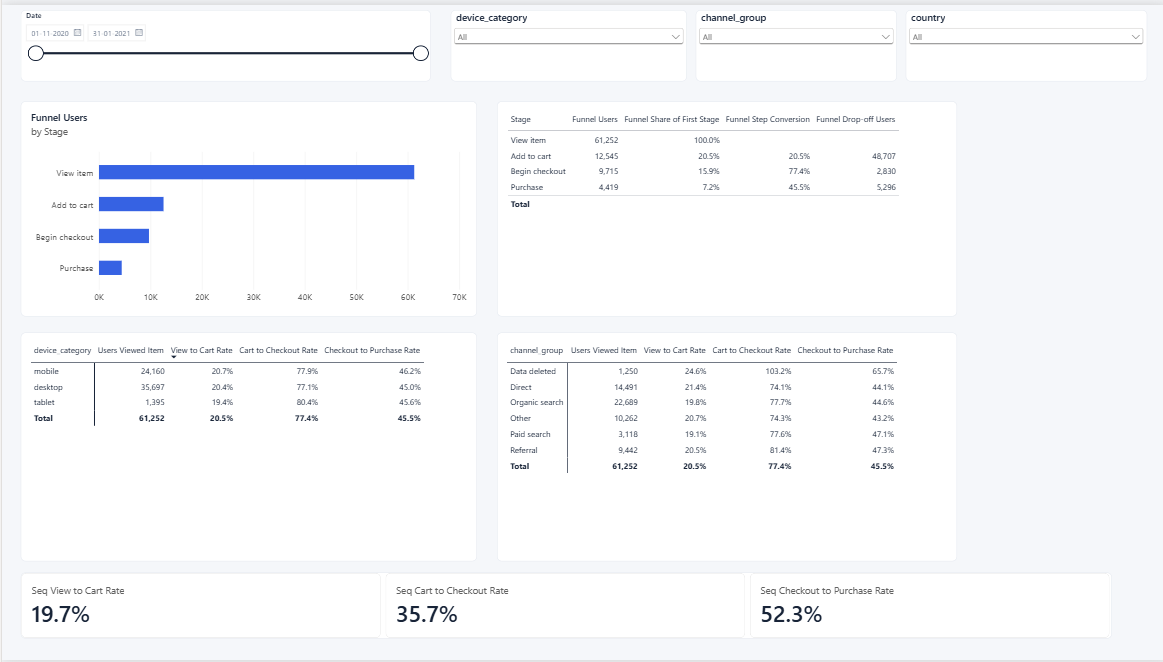

What the dashboard file says about the page in this screenshot:
{"tool":"powerbi","page":{"name":"Conversion funnel","canvas":[1920,1080],"ordinal":1},"visuals":[{"type":"slicer","fields":{"Values":["dim_date.Date"]},"box":[8,4,310,62],"z":0},{"type":"slicer","fields":{"Values":["dim_user.device_category"]},"box":[324,4,310,62],"z":1000},{"type":"slicer","fields":{"Values":["dim_user.channel_group"]},"box":[640,4,310,62],"z":2000},{"type":"slicer","fields":{"Values":["dim_user.country"]},"box":[956,4,310,62],"z":3000},{"type":"barChart","fields":{"Category":["Funnel Stage.Stage"],"Y":["_Measures.Funnel Users"]},"box":[8,74,628,300],"z":4000},{"type":"tableEx","fields":{"Values":["Funnel Stage.Stage","_Measures.Funnel Users","_Measures.Funnel Share of First Stage","_Measures.Funnel Step Conversion","_Measures.Funnel Drop-off Users"]},"box":[644,74,628,300],"z":5000},{"type":"pivotTable","fields":{"Rows":["dim_user.device_category"],"Values":["_Measures.Users Viewed Item","_Measures.View to Cart Rate","_Measures.Cart to Checkout Rate","_Measures.Checkout to Purchase Rate"]},"box":[8,384,628,200],"z":6000},{"type":"pivotTable","fields":{"Rows":["dim_user.channel_group"],"Values":["_Measures.Users Viewed Item","_Measures.View to Cart Rate","_Measures.Cart to Checkout Rate","_Measures.Checkout to Purchase Rate"]},"box":[644,384,628,200],"z":7000},{"type":"cardVisual","fields":{"Data":["_Measures.Seq View to Cart Rate","_Measures.Seq Cart to Checkout Rate","_Measures.Seq Checkout to Purchase Rate"]},"box":[8,596,1264,110],"z":8000}]}

Visuals, with their boxes in screenshot pixels (x1, y1, x2, y2), scaled from the page's 1920x1080 canvas onto the 1163x662 screenshot:
slicer - dim_date.Date: 5, 2, 193, 40
slicer - dim_user.device_category: 196, 2, 384, 40
slicer - dim_user.channel_group: 388, 2, 575, 40
slicer - dim_user.country: 579, 2, 767, 40
barChart - Funnel Stage.Stage x _Measures.Funnel Users: 5, 45, 385, 229
tableEx - Funnel Stage.Stage x _Measures.Funnel Users: 390, 45, 770, 229
pivotTable - dim_user.device_category x _Measures.Users Viewed Item: 5, 235, 385, 358
pivotTable - dim_user.channel_group x _Measures.Users Viewed Item: 390, 235, 770, 358
cardVisual - _Measures.Seq View to Cart Rate x _Measures.Seq Cart to Checkout Rate: 5, 365, 770, 433
